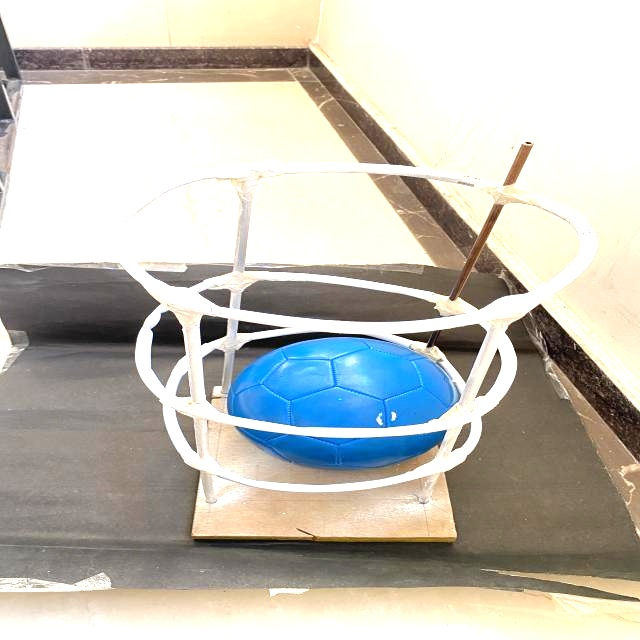blue_ball: (235, 338, 454, 464)
silo: (110, 159, 590, 543)
